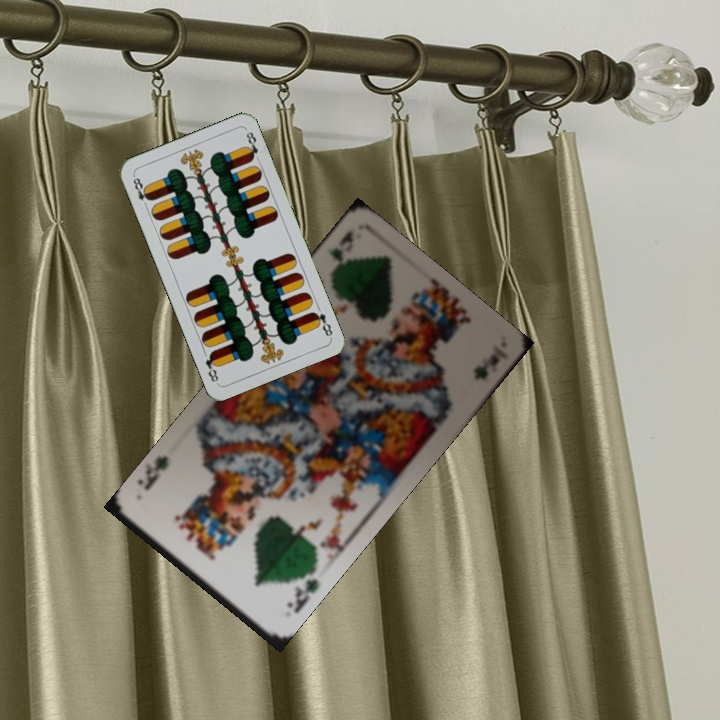E8: (129, 172, 153, 211), (308, 308, 335, 340)
GK: (282, 568, 322, 616), (324, 225, 356, 283)
